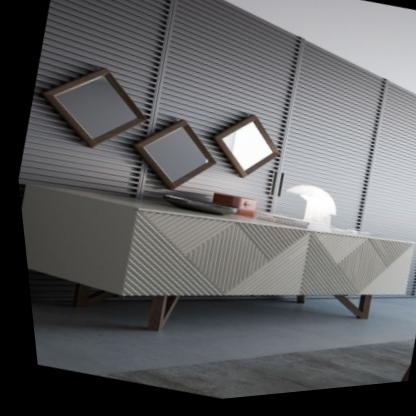Sideboard: (17, 184, 412, 335)
